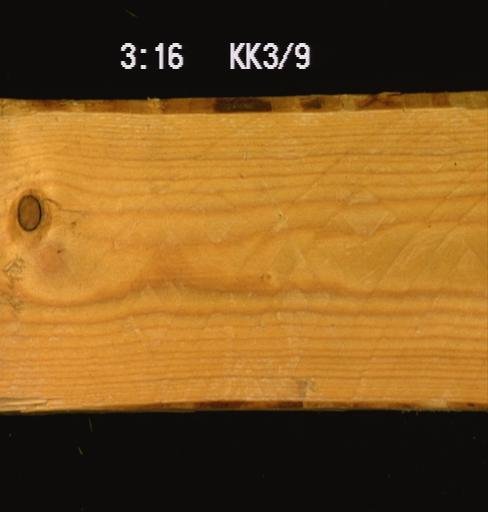dry_knot: (14, 192, 42, 232)
wave: (0, 90, 487, 122), (0, 384, 487, 414)
